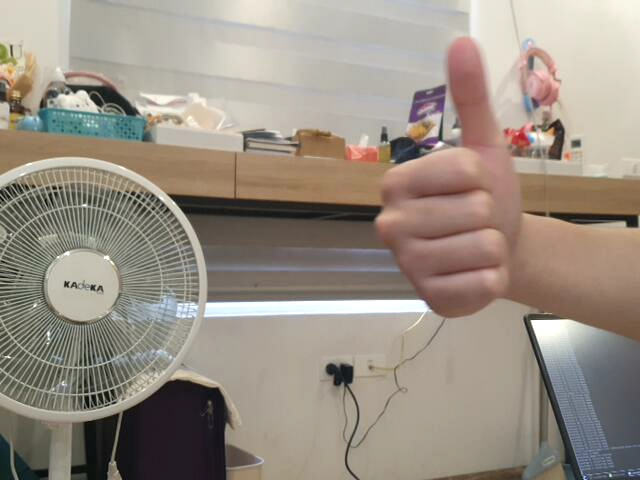ThumbsUp: (369, 34, 528, 324)
